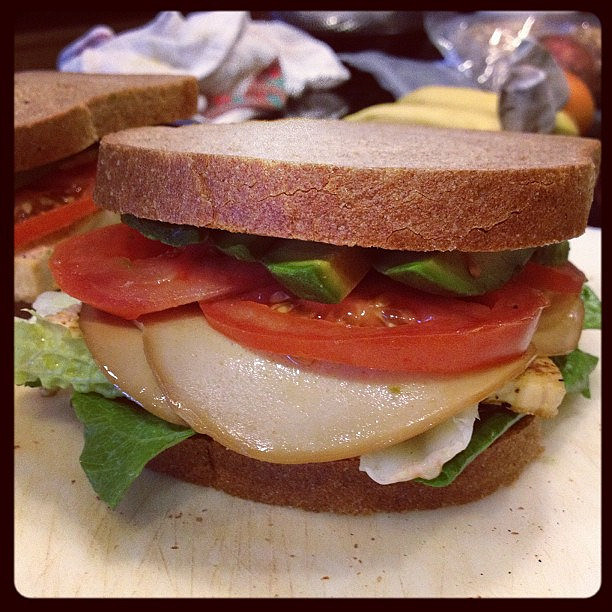chopped lettuce: (11, 317, 167, 499)
slice of bread: (94, 117, 596, 253), (164, 439, 538, 517), (12, 74, 195, 176)
